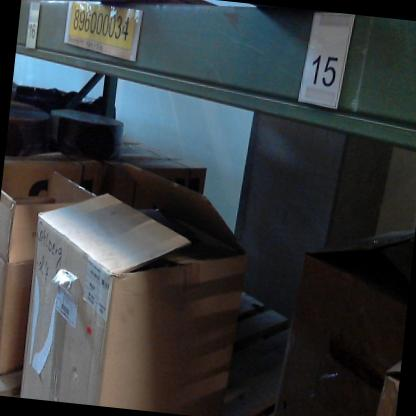pallet: (0, 245, 375, 416), (21, 0, 349, 50)
